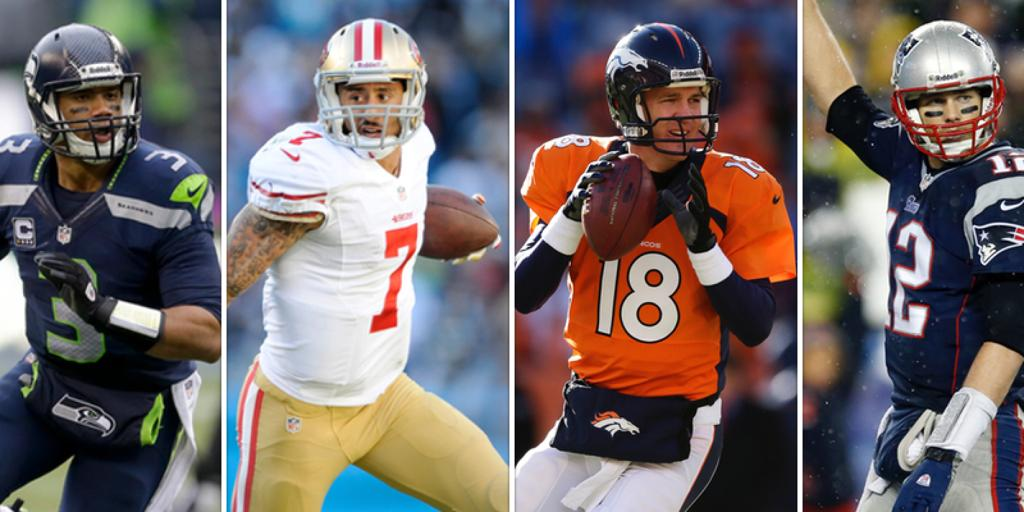face: (60, 82, 128, 158), (650, 80, 712, 160), (920, 88, 986, 158), (340, 78, 404, 150)
